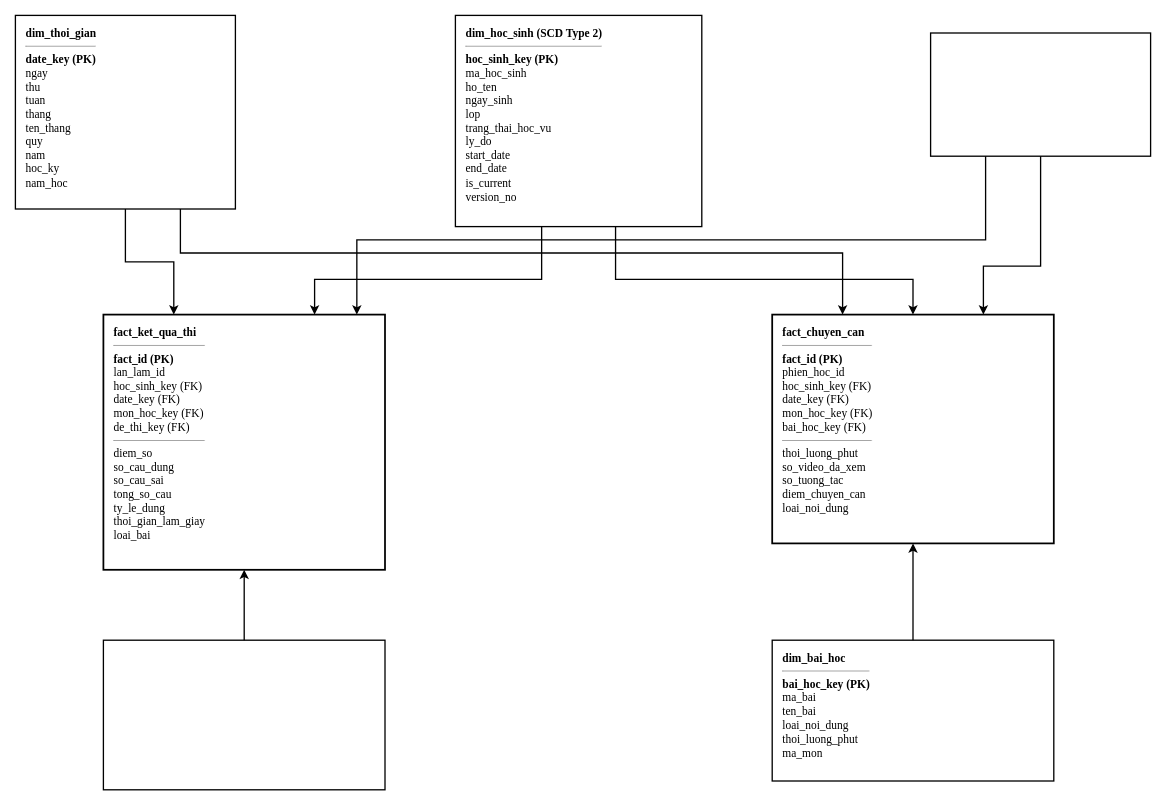
Some shapes in this 1167 by 806 pixel diagram are drawn without their labels. Each missing label, with the box of its shape:
dim_de_thi de_thi_key (PK) ma_de ten_de loai do_kho so_cau ma_mon: (102, 639, 385, 790)
dim_mon_hoc mon_hoc_key (PK) ma_mon ten_mon so_tin_chi khoa: (930, 32, 1151, 156)
